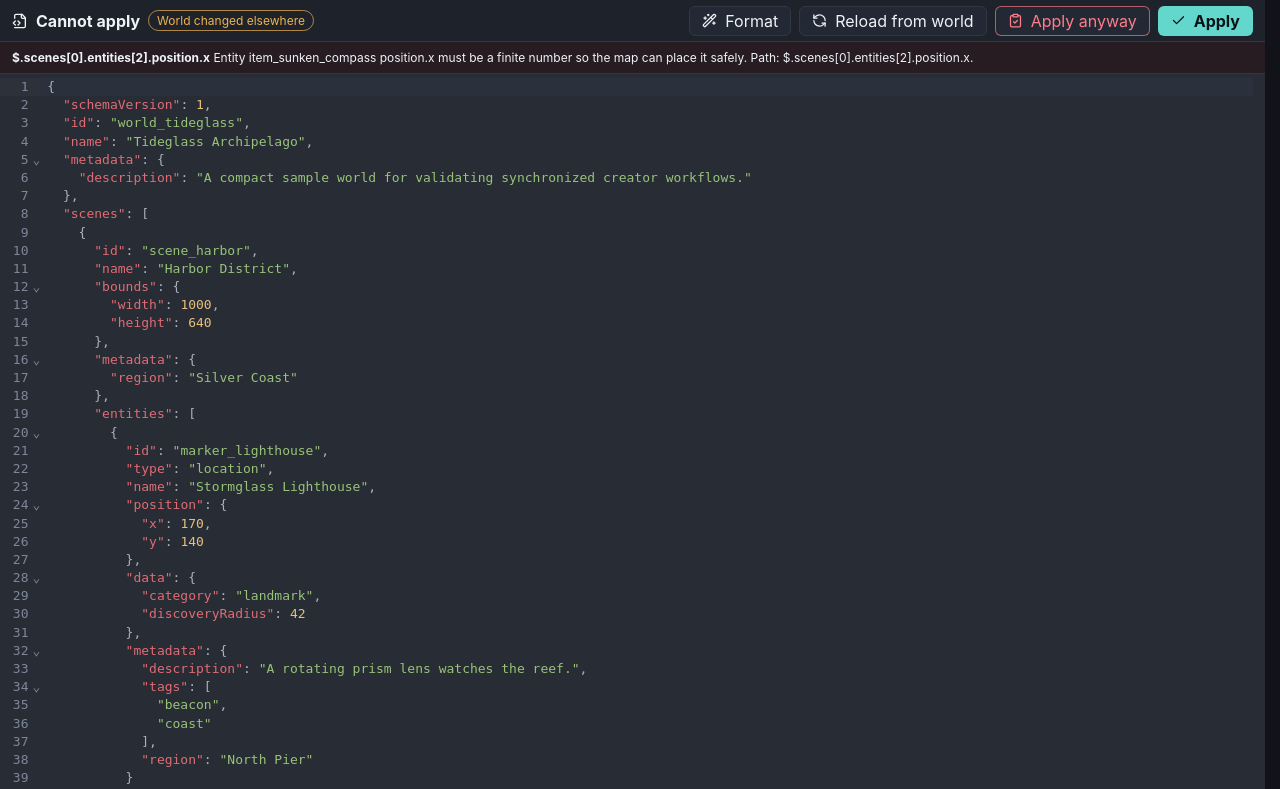
rendered surface equivalence classes › keeps stale cannot-apply JSON diagnostics visible until Reload from world
expect the text "Cannot apply" is shown: met, box [36,10,140,30]
expect the text "World changed elsewhere" is shown: met, box [148,10,314,31]
What coordinates should you click on to do the following:
click the button "Apply"
I would click on:
 (1205, 20)
Its box is [1158,6,1253,36].
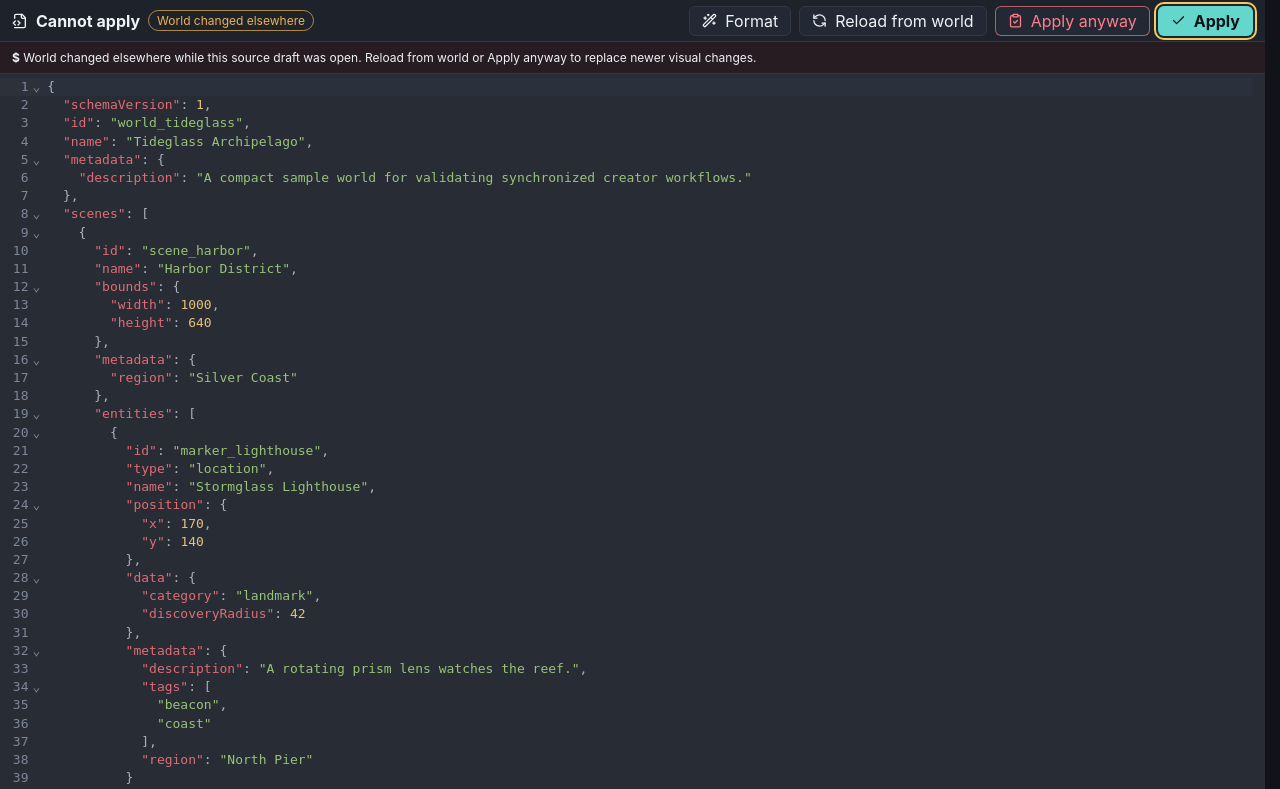
expect the text "World changed elsewhere" is shown: met, box [148,10,314,31]
expect the message shows "World changed elsewhere while this source draft was open": met, box [23,50,756,65]
What coordinates should you click on to do the following:
click the button "Reload from world"
I would click on:
 (893, 20)
Its box is [799,6,987,36].
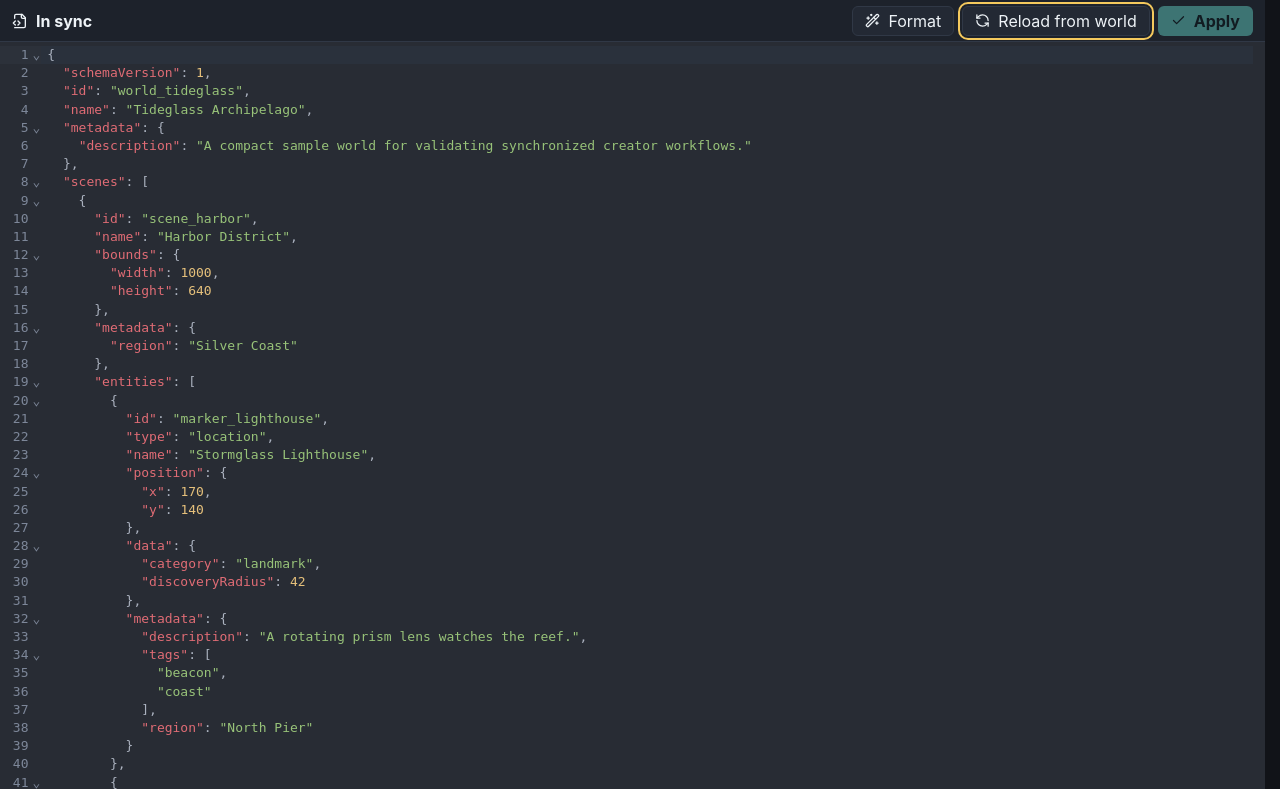
expect the text "In sync" is shown: met, box [36,10,92,30]
expect the text "World changed elsewhere" is gone: met
expect the message is gone: met
